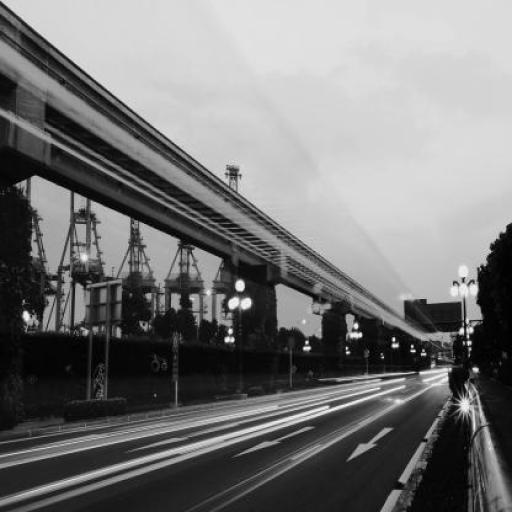street light: (450, 264, 478, 398), (228, 280, 251, 398), (225, 329, 235, 396), (351, 322, 363, 376), (298, 319, 308, 355), (315, 329, 323, 357)
